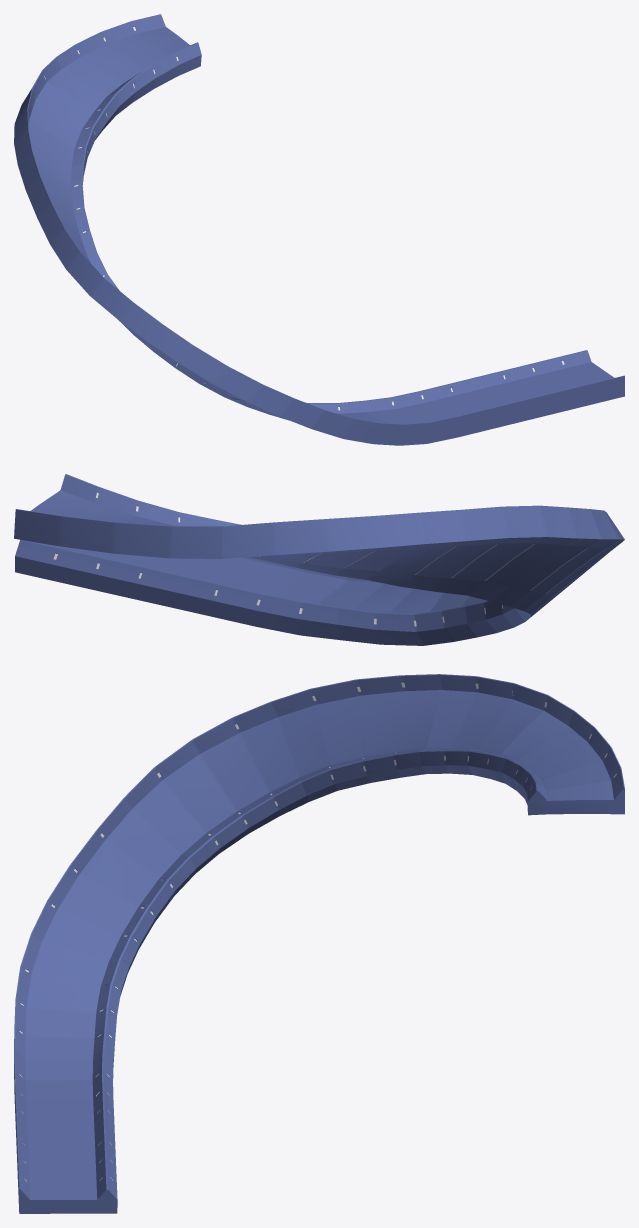
The model's file is staticmesh_Bridge_HalfTrackLeftTurn.fbx.
3 renders of one model, top to bottom at view 1: azimuth 30°, elevation 25°; view 2: azimuth 150°, elevation 25°; view 3: azimuth 270°, elevation 25°, orthographic. The views are drawn at different scales.
Visible parts, largest first — view 1: geo_Bridge_HalfTrackLeftTurn; view 2: geo_Bridge_HalfTrackLeftTurn; view 3: geo_Bridge_HalfTrackLeftTurn.
Boxes of the visible parts, bbox=[...] form: geo_Bridge_HalfTrackLeftTurn: bbox=[14, 14, 624, 445]; geo_Bridge_HalfTrackLeftTurn: bbox=[14, 474, 624, 645]; geo_Bridge_HalfTrackLeftTurn: bbox=[14, 674, 624, 1213].
Size of what is drawn, in the model's own units: 2579 by 1342 by 2427.
